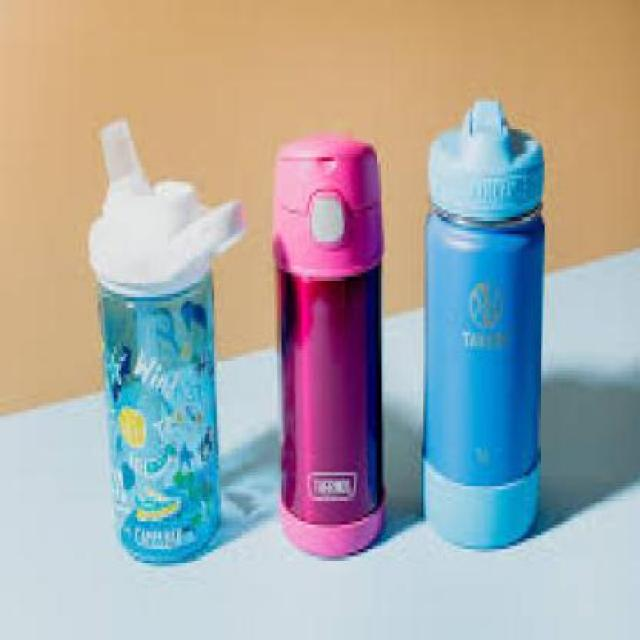Drinking: (404, 91, 562, 557), (81, 157, 228, 577)
